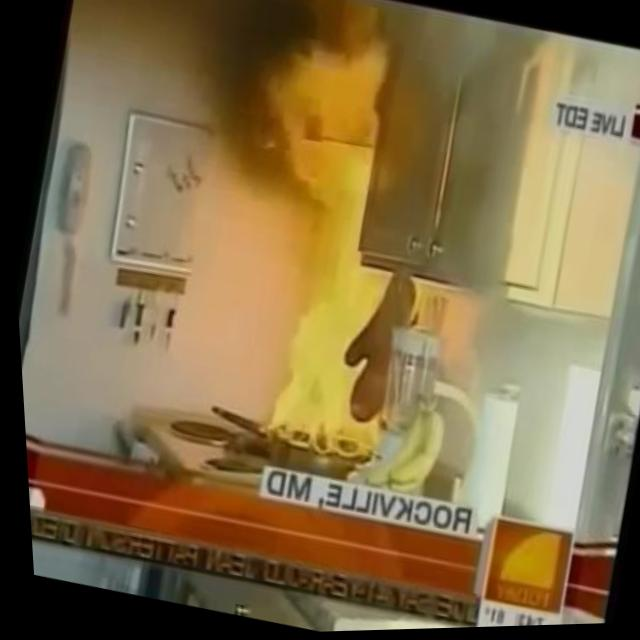fire: (174, 4, 488, 472)
